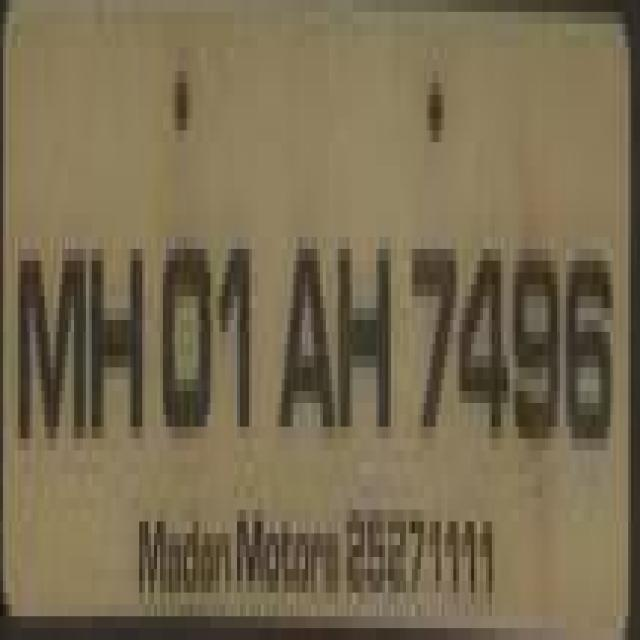license_plate: (6, 24, 604, 604)
